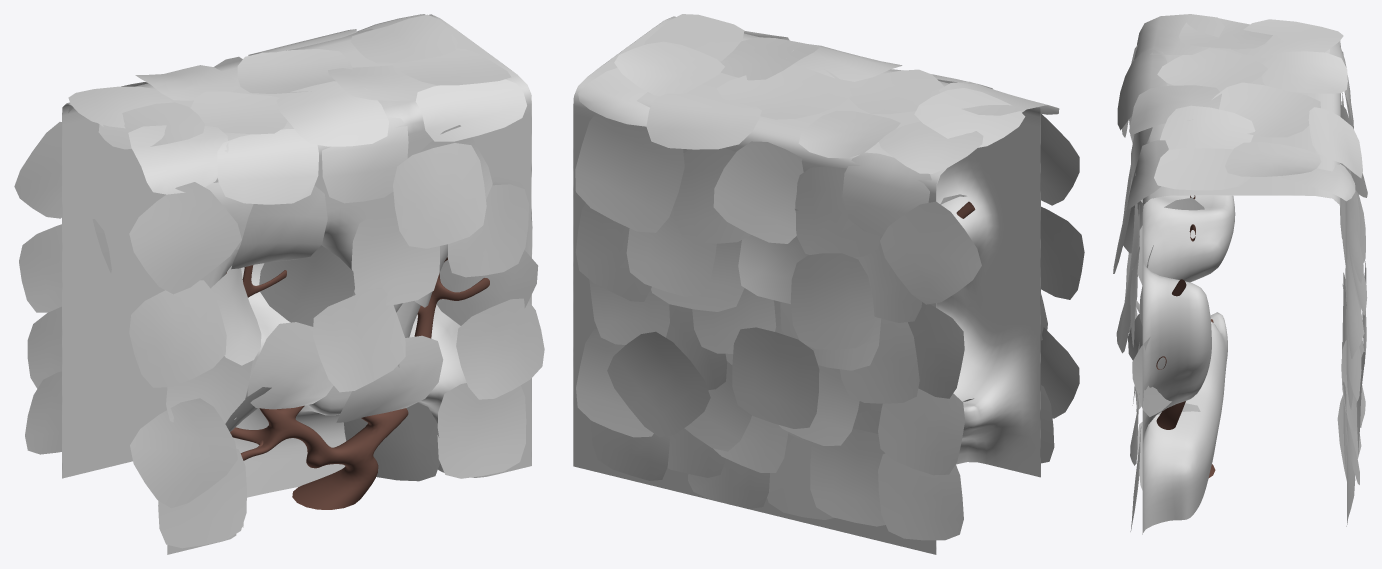
File: 4MazeHedgeAsset.fbx
3 views of the same model, side by side, from view 1: azimuth 30°, elevation 25°; view 2: azimuth 150°, elevation 25°; view 3: azimuth 270°, elevation 25° (orthographic). The views are drawn at different scales.
Parts seen in each view (by area): view 1: Cube.003; view 2: Cube.003; view 3: Cube.003.
Part boxes in pixels (<box>): Cube.003: <box>14,14,544,554</box>; Cube.003: <box>573,14,1084,554</box>; Cube.003: <box>1113,14,1367,534</box>.
Bounding box in the file's own units: 231 × 129 × 208.
